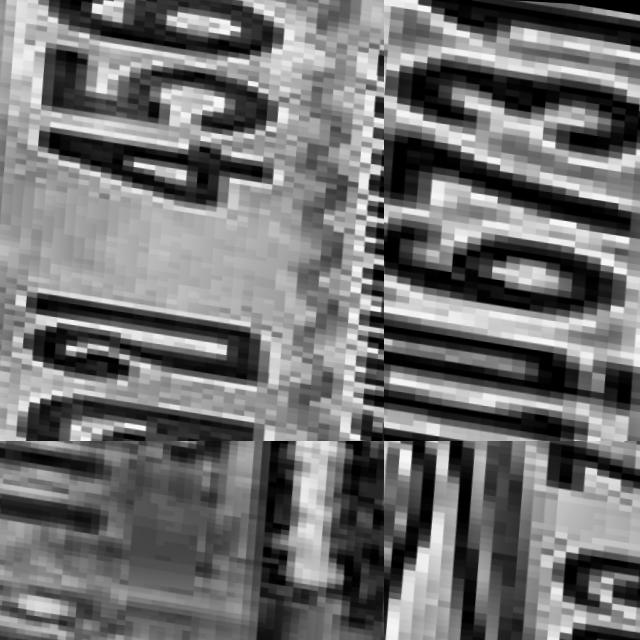license-plate: (0, 0, 384, 441), (384, 0, 640, 441), (0, 441, 368, 640), (387, 441, 640, 640)
